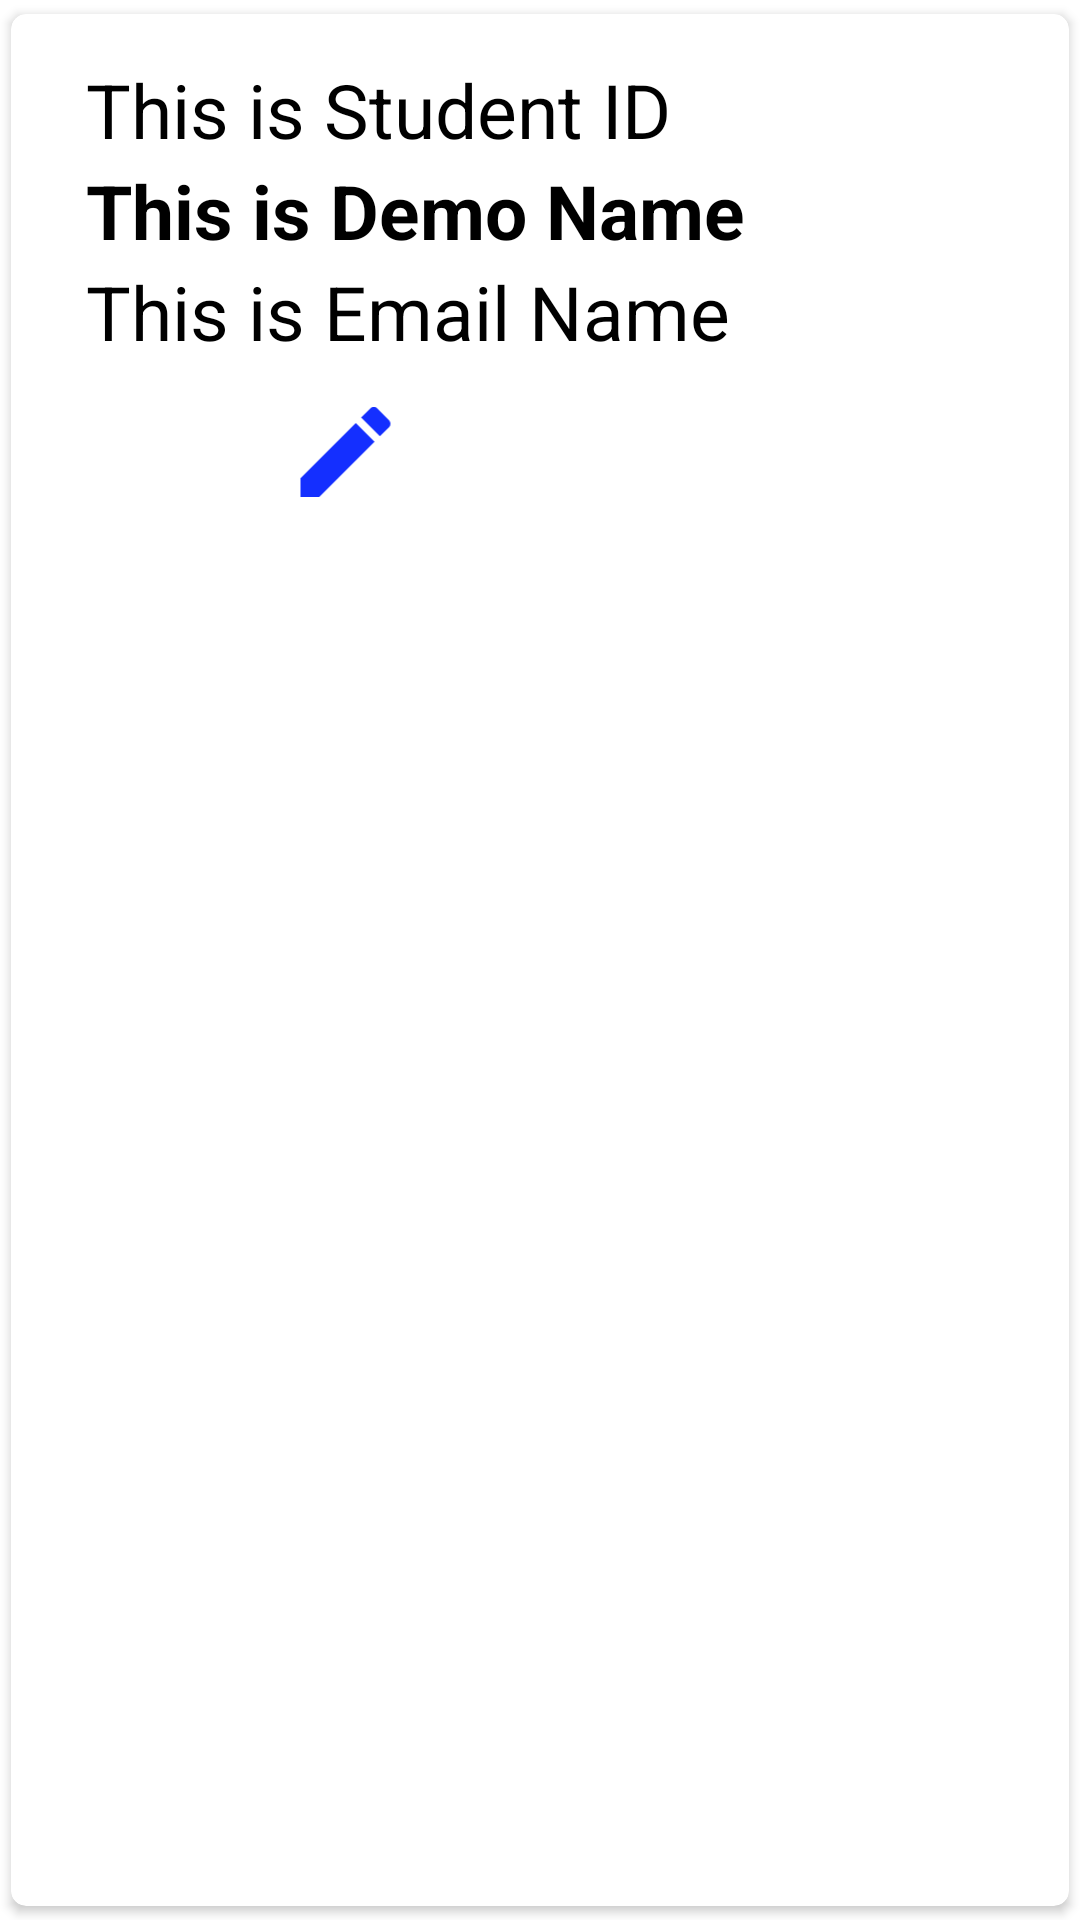

Point at icon controls on the screen. Image size 1080x1920, points as point (x, y).
edit: point (345, 452)
